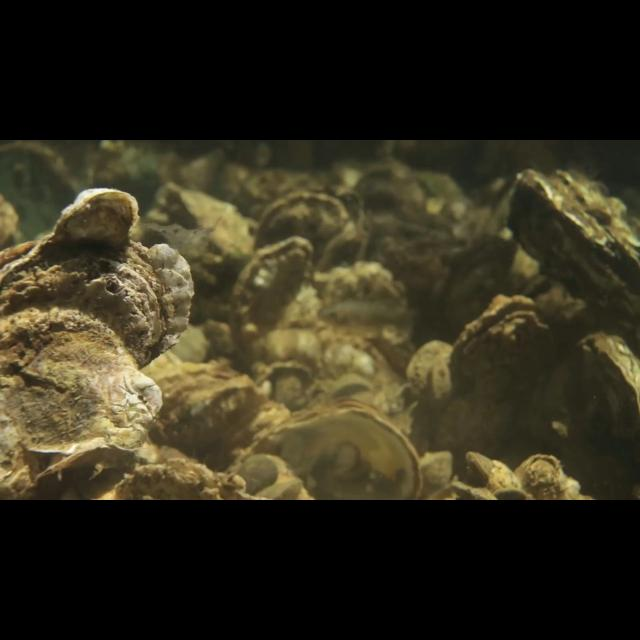Oyster-Closed: (1, 173, 201, 368), (0, 314, 171, 491), (496, 156, 637, 317), (253, 391, 432, 499), (227, 224, 321, 353), (567, 315, 640, 461), (163, 369, 278, 450), (249, 180, 358, 256), (112, 451, 250, 493), (464, 450, 522, 494)
Oyster-Open: (440, 285, 558, 399), (514, 451, 568, 500)
